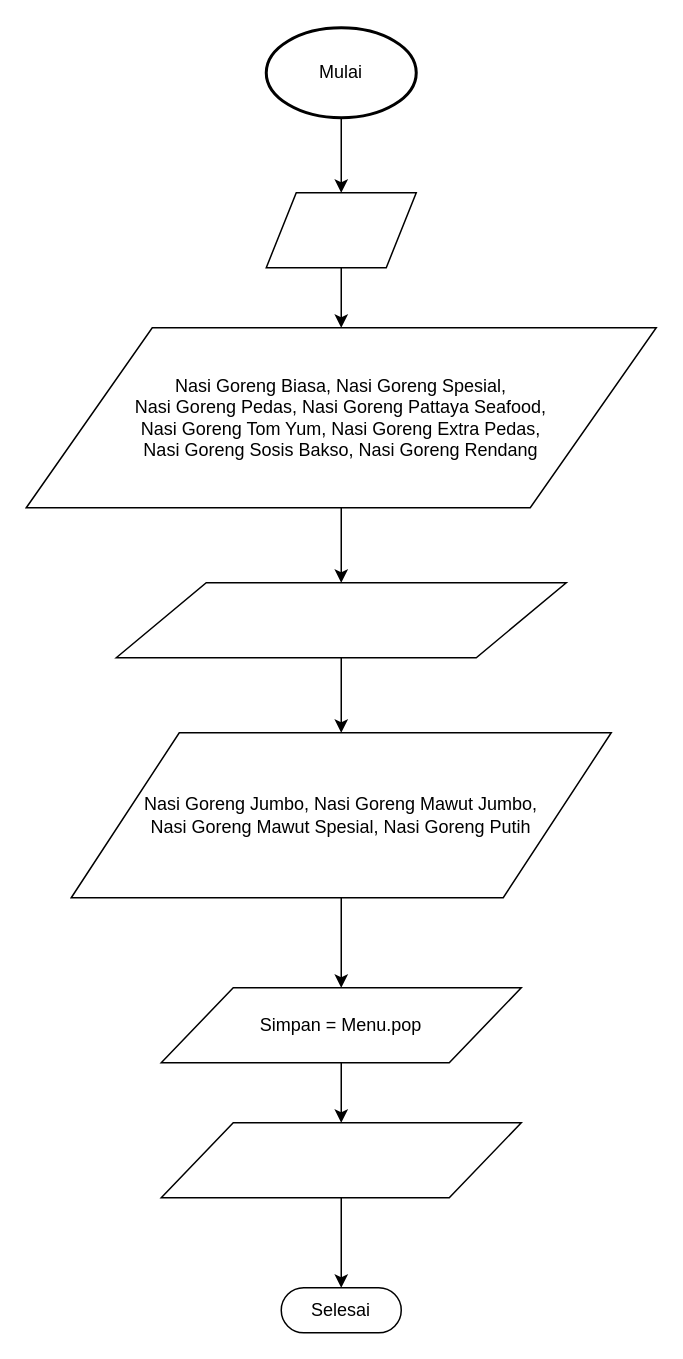
Some shapes in this 683 by 1359 pixel diagram are drawn without their labels. Each missing label, with the box of its shape:
Daftar Menu: (265, 191, 416, 268)
Nasi Goreng Rendang Jumbo: (160, 1121, 521, 1198)
Tambah Menu: (115, 581, 566, 658)
